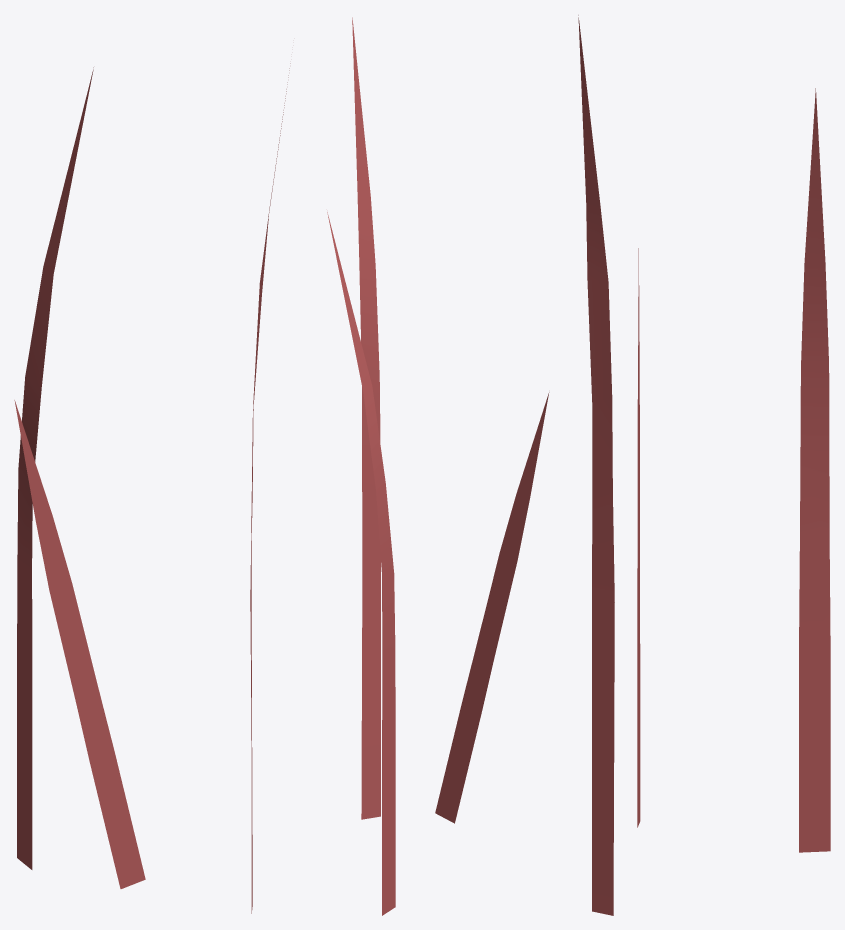
Rendered from Grass Blade (2) CURVED.fbx.
The picture shows the model from 3 angles, left to right: view 1: azimuth 30°, elevation 25°; view 2: azimuth 150°, elevation 25°; view 3: azimuth 270°, elevation 25°; orthographic projection. The views are drawn at different scales.
Visible parts, largest first — view 1: Plane, Plane.003, Plane.002; view 2: Plane.002, Plane.003, Plane; view 3: Plane.003, Plane.002, Plane.
Boxes of the visible parts, box(x1,y1,x2,y2) form: Plane: box(14, 400, 145, 888); Plane.003: box(17, 67, 93, 869); Plane.002: box(250, 63, 290, 913); Plane.002: box(352, 17, 380, 819); Plane.003: box(327, 212, 395, 915); Plane: box(435, 392, 549, 823); Plane.003: box(799, 88, 830, 852); Plane.002: box(578, 15, 614, 915); Plane: box(637, 248, 640, 827).
Size of the model in its own units: 2.48 by 8.37 by 2.09.
